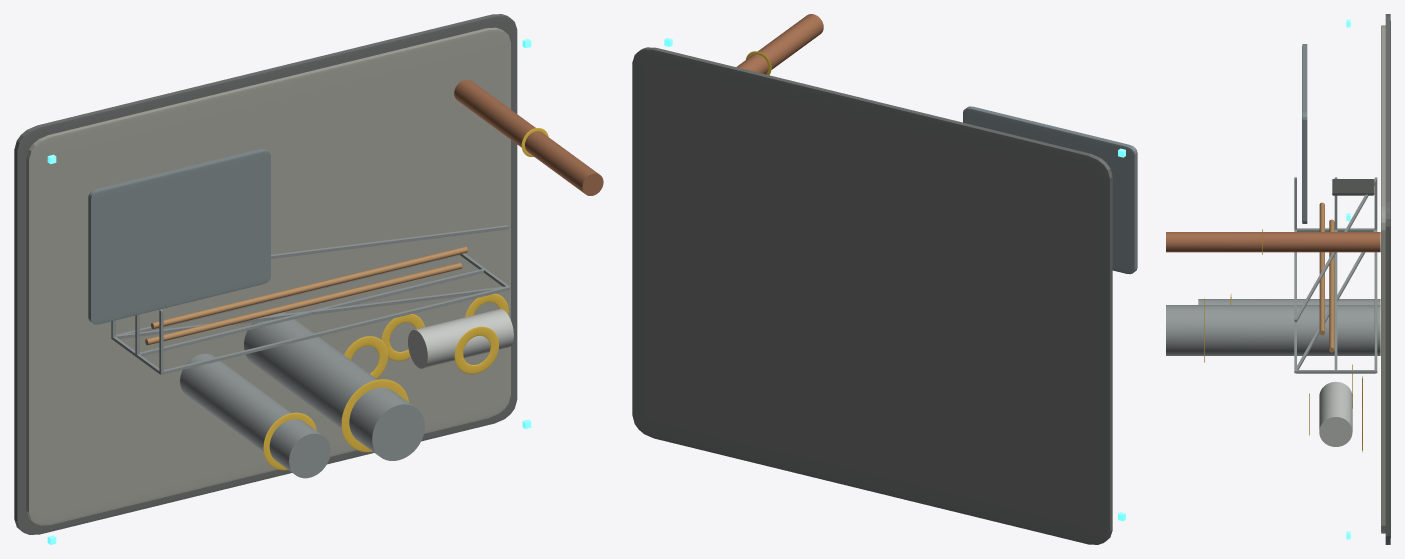
The model's file is b-07-refinery-lod2.glb.
3 renders of one model, left to right at view 1: azimuth 30°, elevation 25°; view 2: azimuth 150°, elevation 25°; view 3: azimuth 270°, elevation 25°, orthographic. The views are drawn at different scales.
Visible parts, largest first — view 1: foundation_inner_pad, refinery_control_roof, foundation, distillation_column_1_vessel, distillation_column_0_vessel, flare_stack_stack, horizontal_tank_1_vessel, refinery_pipe_0_segment_1, refinery_pipe_2_segment_1, refinery_pipe_rack_beam_x_2_s, refinery_pipe_rack_beam_x_1_s, refinery_pipe_rack_brace_a_-1.05 (+6 smaller); view 2: foundation, refinery_control_roof, flare_stack_stack; view 3: distillation_column_1_vessel, flare_stack_stack, foundation, foundation_inner_pad, horizontal_tank_1_vessel, refinery_control_roof, distillation_column_0_vessel, refinery_control_door_1, refinery_pipe_0_segment_1, refinery_pipe_2_segment_1, refinery_pipe_rack_brace_a_1.05, refinery_pipe_rack_beam_x_0_s (+4 smaller).
Part boxes in pixels (x1=…): foundation_inner_pad: x1=26, y1=27, x2=510, y2=525; refinery_control_roof: x1=88, y1=149, x2=270, y2=324; foundation: x1=14, y1=14, x2=517, y2=534; distillation_column_1_vessel: x1=244, y1=312, x2=424, y2=460; distillation_column_0_vessel: x1=180, y1=353, x2=330, y2=478; flare_stack_stack: x1=454, y1=79, x2=603, y2=195; horizontal_tank_1_vessel: x1=408, y1=309, x2=513, y2=368; refinery_pipe_0_segment_1: x1=145, y1=262, x2=462, y2=345; refinery_pipe_2_segment_1: x1=151, y1=246, x2=467, y2=329; refinery_pipe_rack_beam_x_2_s: x1=159, y1=286, x2=510, y2=374; refinery_pipe_rack_beam_x_1_s: x1=135, y1=269, x2=483, y2=356; refinery_pipe_rack_brace_a_-1.05: x1=116, y1=286, x2=505, y2=338; foundation: x1=632, y1=47, x2=1112, y2=544; refinery_control_roof: x1=963, y1=106, x2=1137, y2=274; flare_stack_stack: x1=736, y1=14, x2=823, y2=74; distillation_column_1_vessel: x1=1166, y1=305, x2=1380, y2=355; flare_stack_stack: x1=1166, y1=232, x2=1380, y2=252; foundation: x1=1385, y1=14, x2=1390, y2=544; foundation_inner_pad: x1=1381, y1=25, x2=1385, y2=533; horizontal_tank_1_vessel: x1=1319, y1=381, x2=1352, y2=446; refinery_control_roof: x1=1302, y1=44, x2=1307, y2=223; distillation_column_0_vessel: x1=1198, y1=299, x2=1380, y2=304; refinery_control_door_1: x1=1332, y1=179, x2=1374, y2=195; refinery_pipe_0_segment_1: x1=1329, y1=219, x2=1334, y2=352; refinery_pipe_2_segment_1: x1=1319, y1=202, x2=1324, y2=335; refinery_pipe_rack_brace_a_1.05: x1=1294, y1=178, x2=1376, y2=321; refinery_pipe_rack_beam_x_0_s: x1=1374, y1=229, x2=1377, y2=373.
Size of what is drawn, in the model's own units: 18 by 14 by 8.38.
